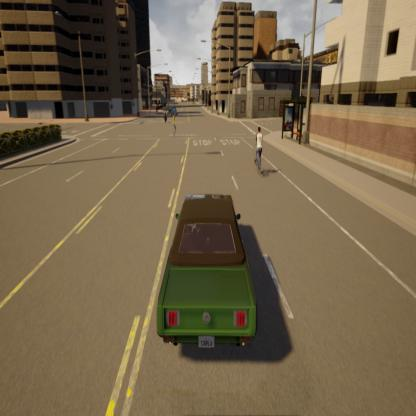Cars: (152, 183, 260, 358), (170, 104, 178, 118)
Pedestrian: (171, 109, 178, 136)
